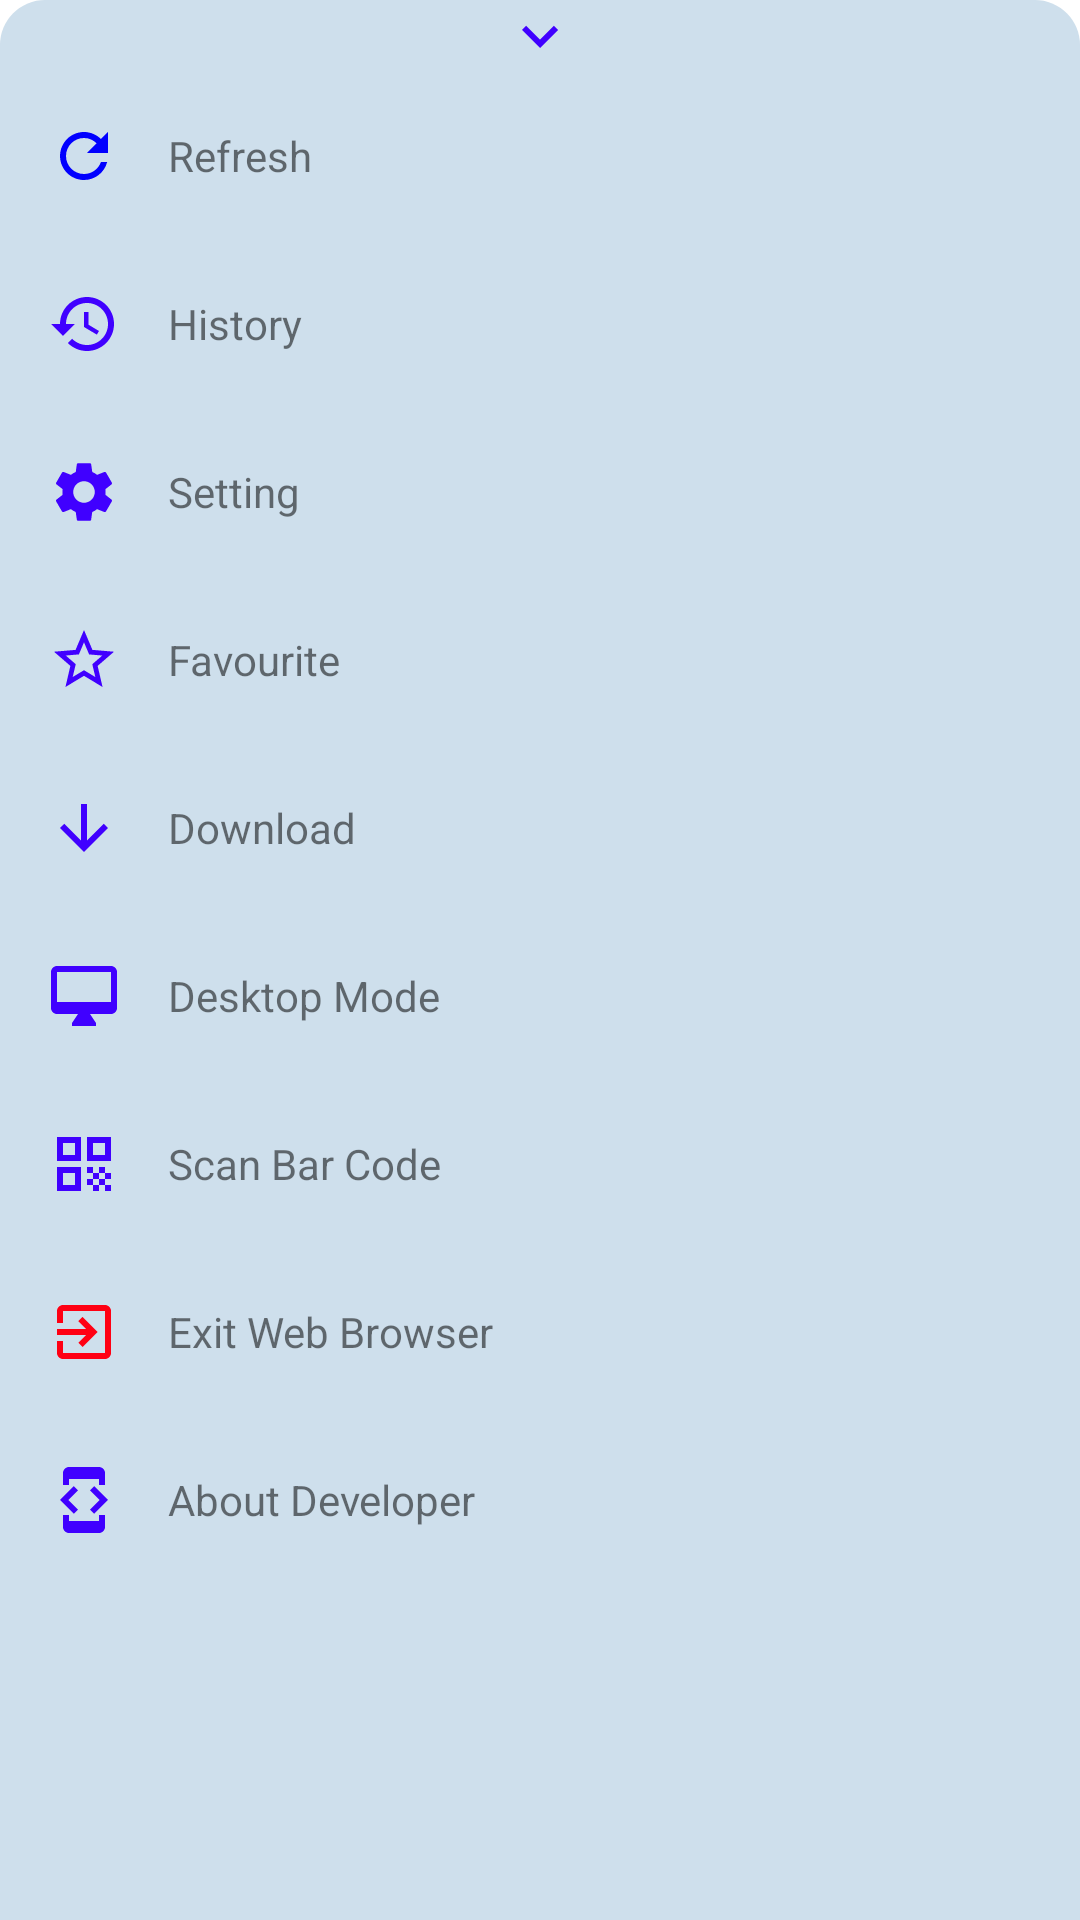

Locate icon controls on the screen. Image size 1080 x 1920, boxes as (x1=x1, y1=y1, x2=x2, y2=y2).
arrow down: (x1=522, y1=26, x2=558, y2=48)
desktop mac: (x1=51, y1=966, x2=117, y2=1026)
developer mode: (x1=60, y1=1467, x2=108, y2=1533)
exit to app: (x1=57, y1=1305, x2=111, y2=1359)
qr code: (x1=57, y1=1137, x2=111, y2=1191)
star: (x1=54, y1=630, x2=114, y2=687)
